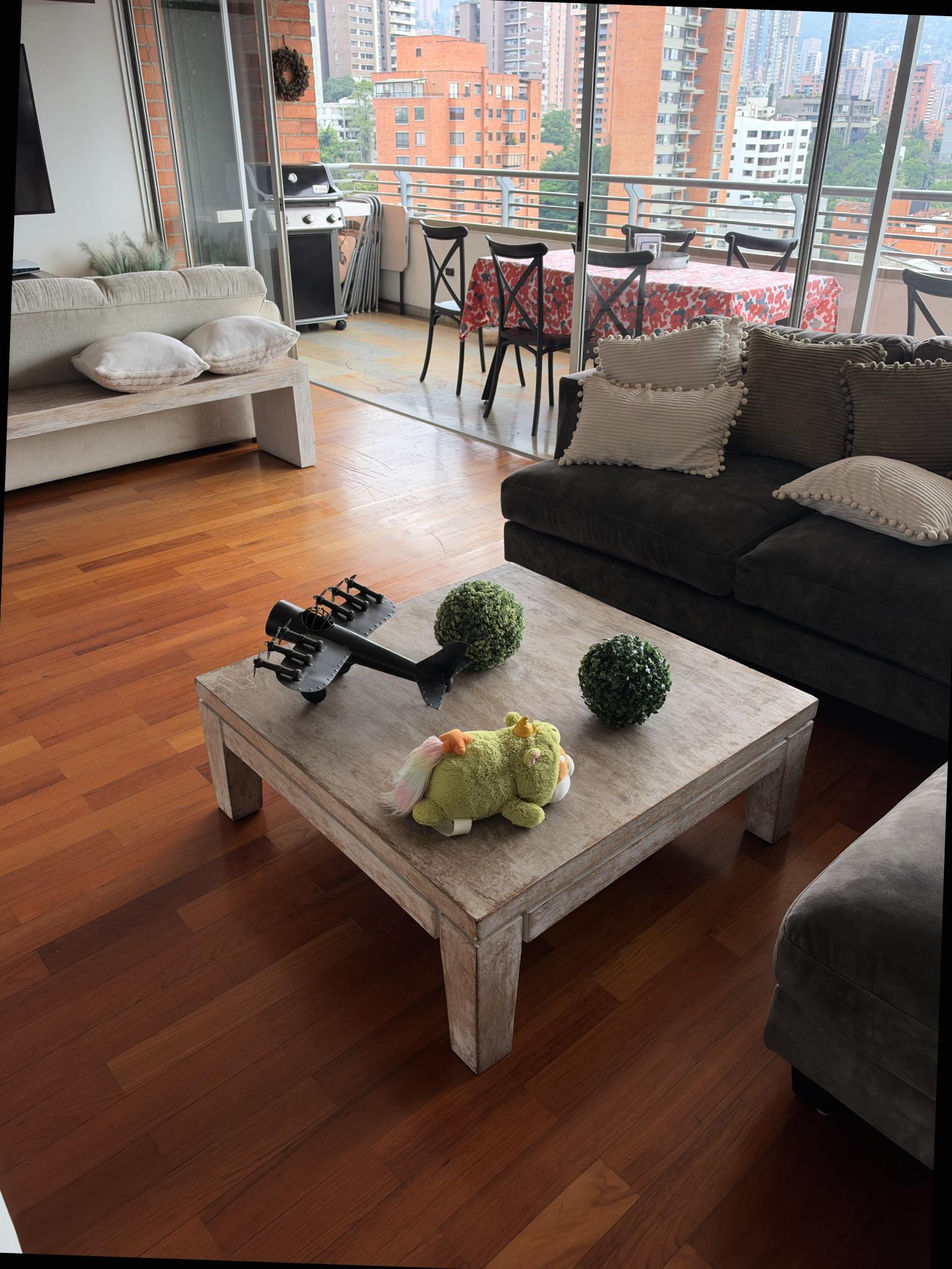peluche_martin: (377, 706, 577, 832)
